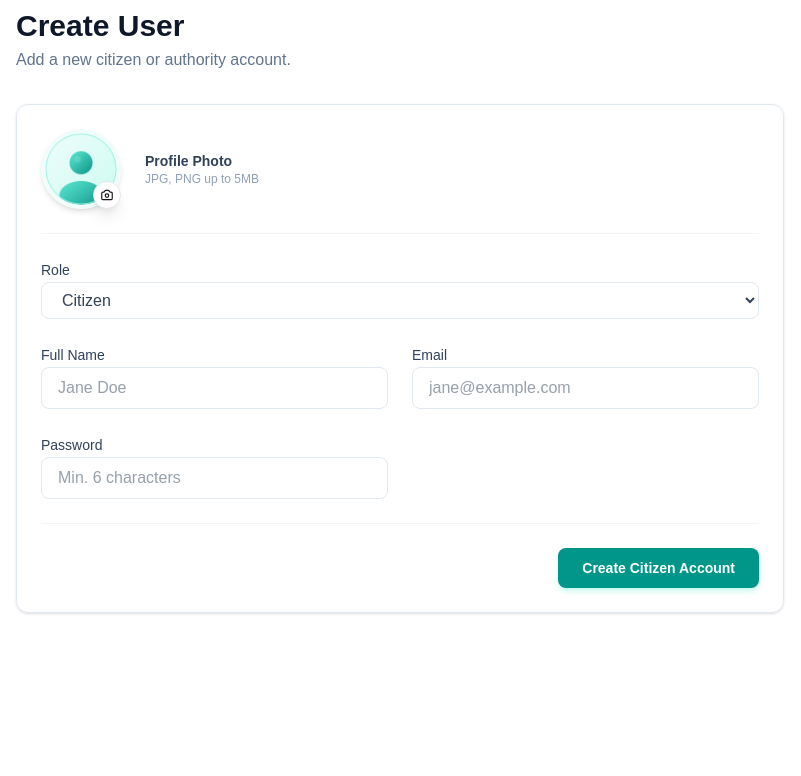
it: Create User Page › shows authority fields when role is authority
The image size is (801, 776).
Select "Authority" in the dropdown named "role" at {"x": 400, "y": 300}, box x1=41 y1=282 x2=759 y2=319
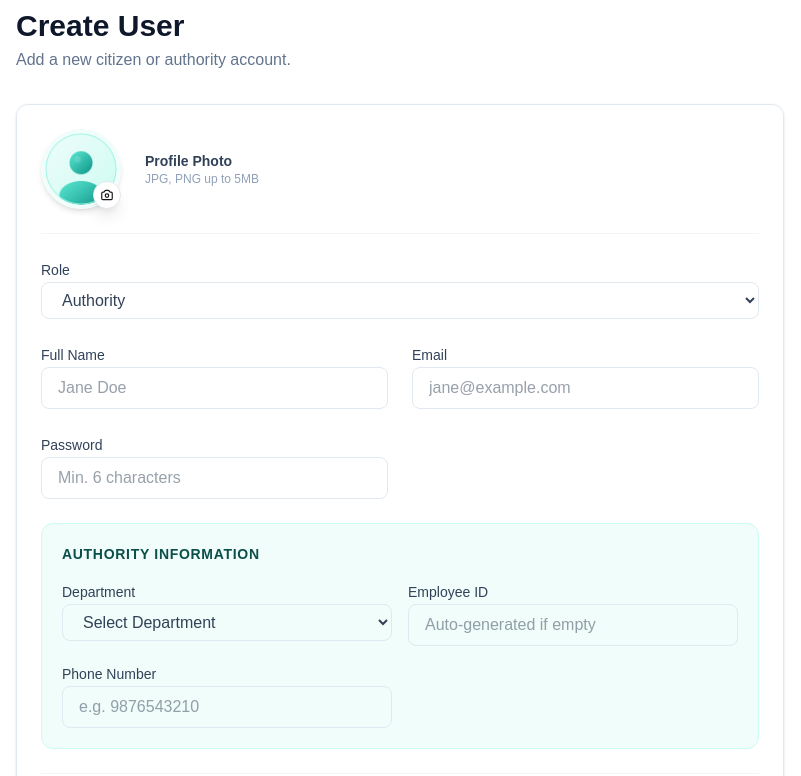
Result: the heading "Authority Information" is shown at x1=62 y1=546 x2=260 y2=562
Result: the field with placeholder "Auto-generated if empty" is shown at x1=408 y1=604 x2=738 y2=646
Result: the field with placeholder "e.g. 9876543210" is shown at x1=62 y1=686 x2=392 y2=728
